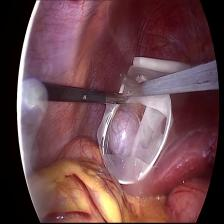Grasper: (119, 69, 147, 98), (107, 90, 128, 106)
Specimen Bag: (97, 51, 190, 183)
